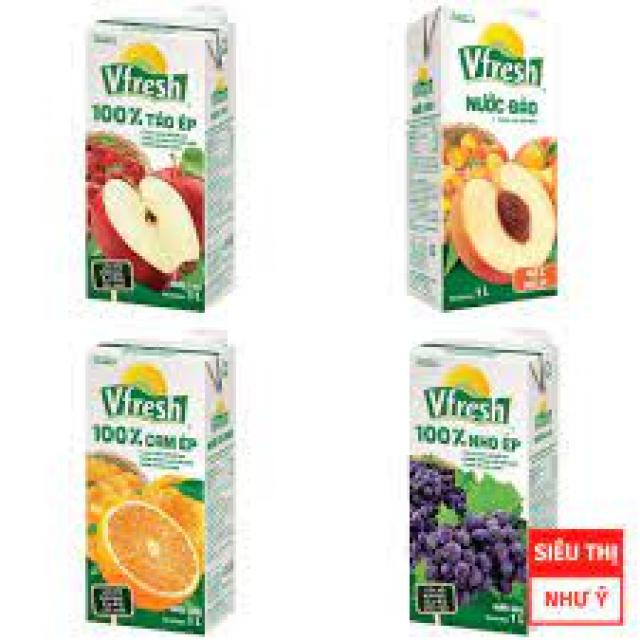non_white_jug: (219, 0, 501, 537)
